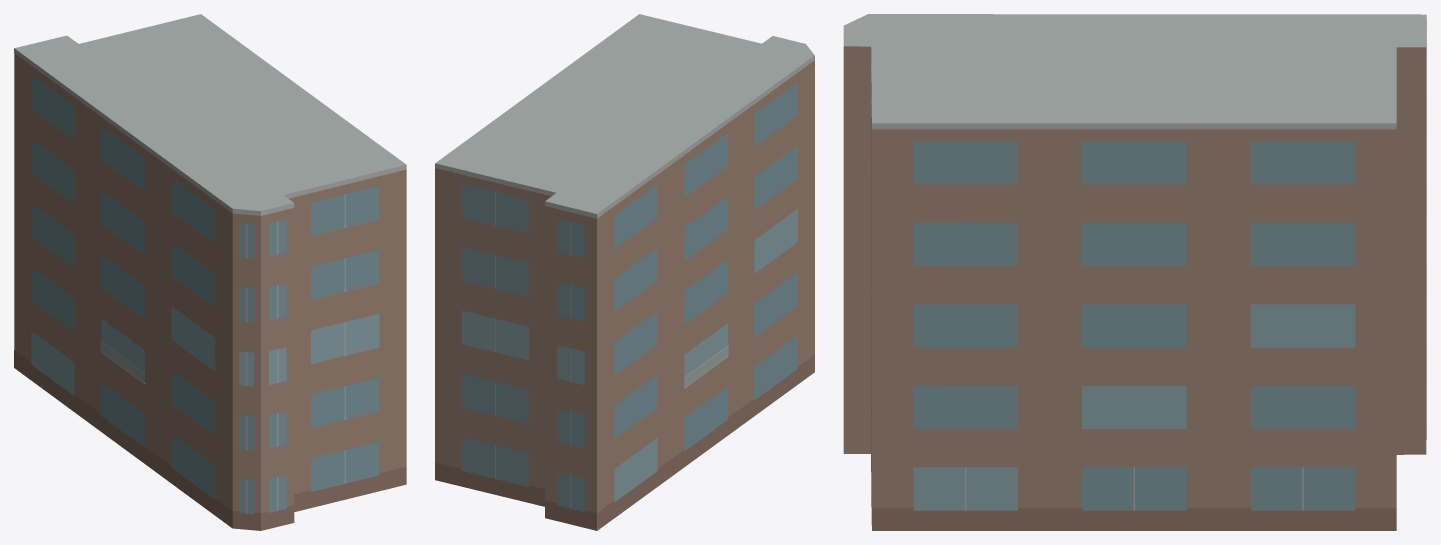
File: survey-upis-32726682.glb
3 renders of one model, left to right at view 1: azimuth 30°, elevation 25°; view 2: azimuth 150°, elevation 25°; view 3: azimuth 270°, elevation 25°, orthographic. The views are drawn at different scales.
Parts seen in each view (by area): view 1: survey-upis-32726682.tmp; view 2: survey-upis-32726682.tmp; view 3: survey-upis-32726682.tmp.
Part boxes in pixels (x1,y1,x2,y2): survey-upis-32726682.tmp: [14, 14, 406, 530]; survey-upis-32726682.tmp: [435, 14, 814, 530]; survey-upis-32726682.tmp: [843, 14, 1426, 530].
Bounding box in the file's own units: 9.53 × 16.5 × 21.41.
